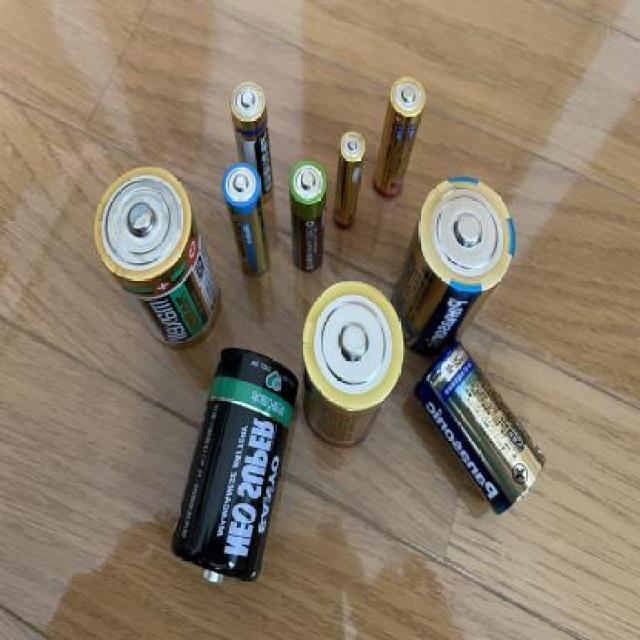hazardous waste: (164, 344, 298, 600), (94, 163, 222, 354), (410, 346, 550, 517), (388, 169, 510, 360), (295, 278, 403, 454), (370, 75, 428, 200), (230, 74, 278, 203), (222, 162, 272, 276), (283, 158, 329, 277), (330, 127, 368, 230)
